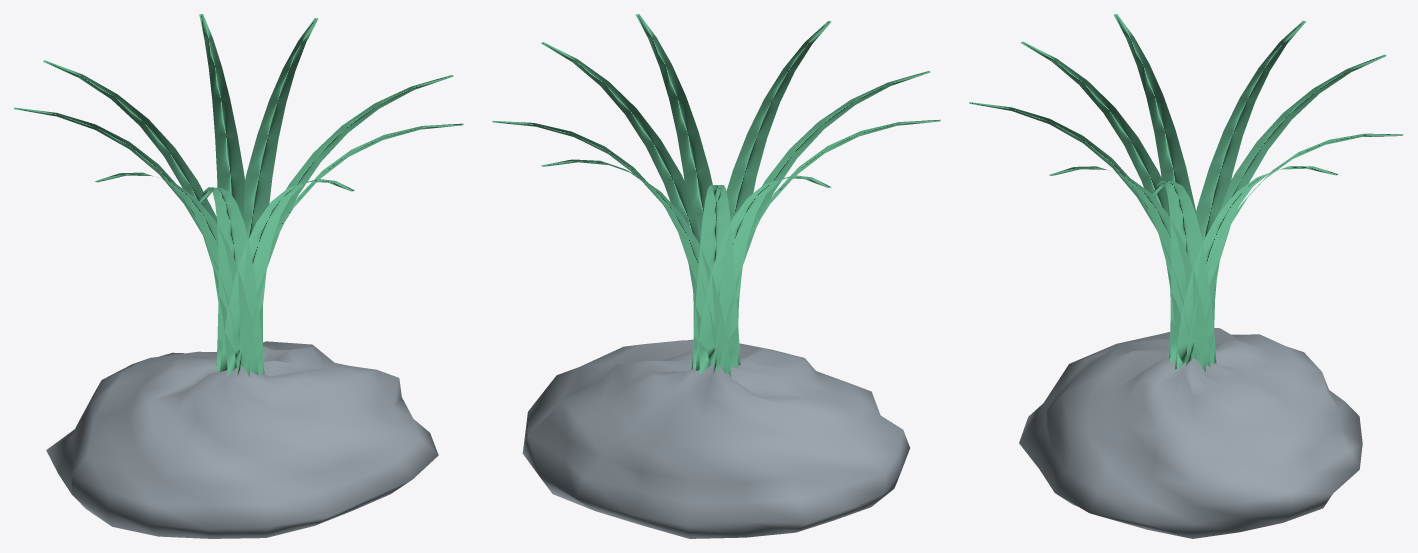
Rendered from seaweed.glb.
3 renders of one model, left to right at view 1: azimuth 30°, elevation 25°; view 2: azimuth 150°, elevation 25°; view 3: azimuth 270°, elevation 25°, orthographic.
Parts seen in each view (by area): view 1: seaweed-on-rock; view 2: seaweed-on-rock; view 3: seaweed-on-rock.
Part boxes in pixels (bbox=[...]): seaweed-on-rock: bbox=[14, 14, 463, 538]; seaweed-on-rock: bbox=[492, 14, 940, 538]; seaweed-on-rock: bbox=[969, 14, 1403, 538].
Size of the model in its own units: 0.7709 by 0.7083 by 0.7771.
